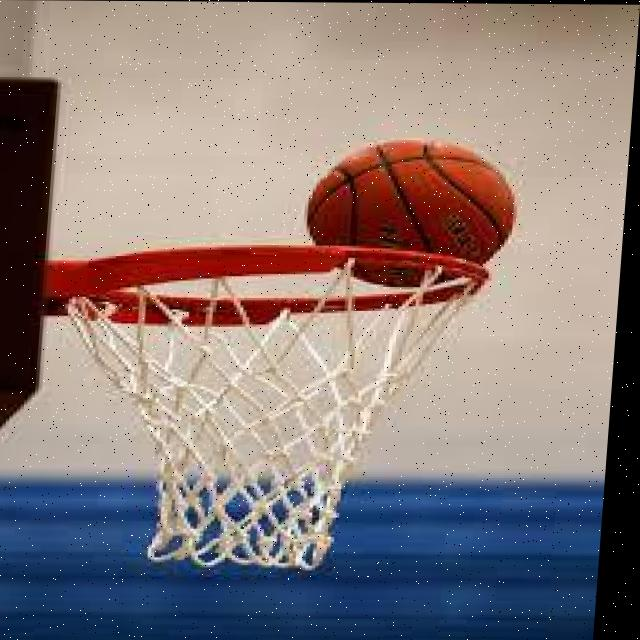hoop: (28, 207, 520, 587)
